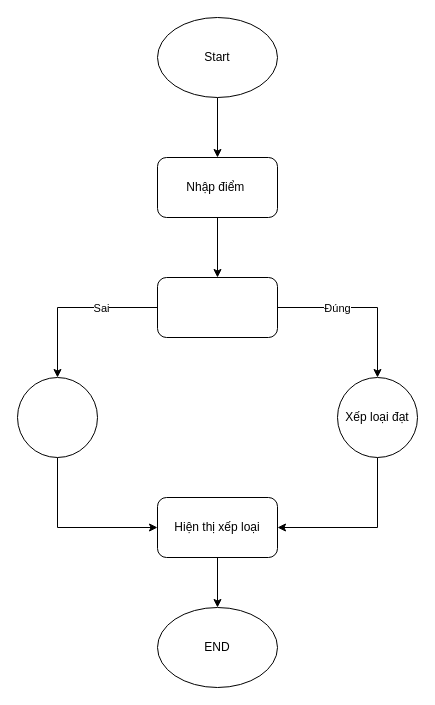
This 435x705 diagram has some shape labels left out. The centre of each missing label's shape, as x and y in pixels:
"Xếp loại không đạt" goes at (57,417).
"Điểm >=5" goes at (217,307).
